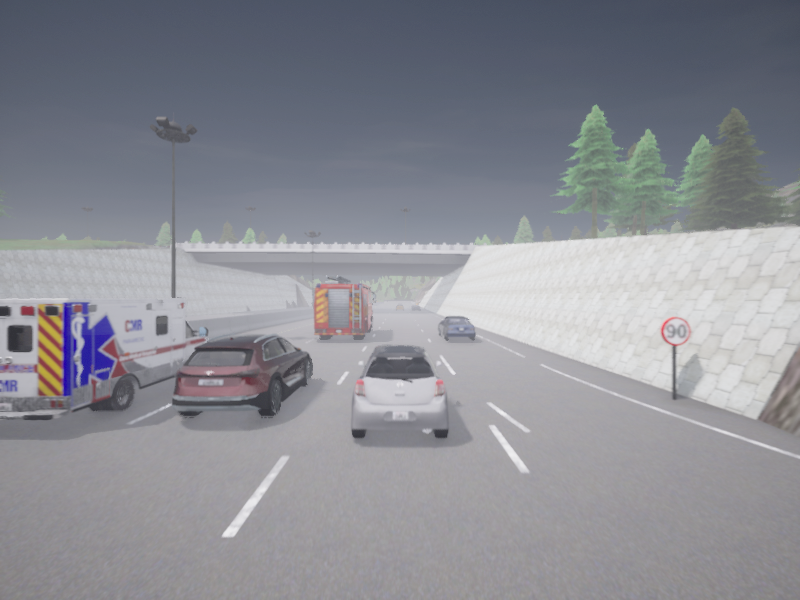vehicle: (0, 299, 209, 419), (172, 333, 311, 416), (351, 344, 448, 438), (314, 275, 375, 338), (438, 316, 475, 339), (396, 303, 403, 309), (411, 305, 419, 310)
